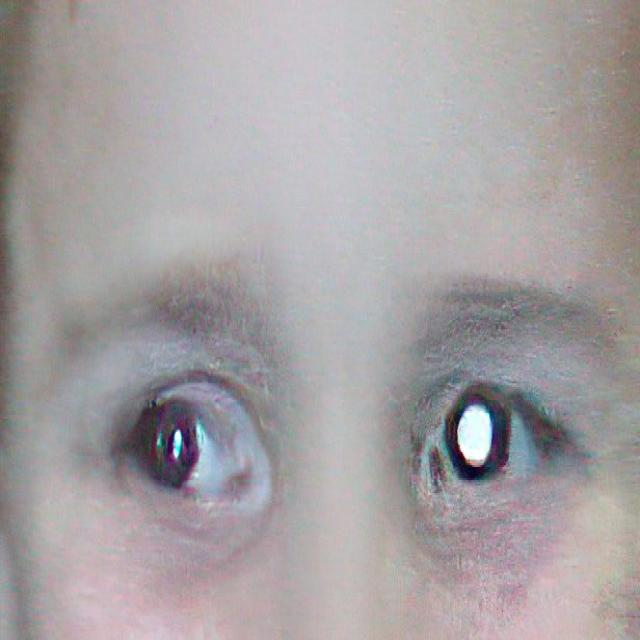reflexo-alterado: (402, 332, 576, 534), (98, 345, 275, 537)
